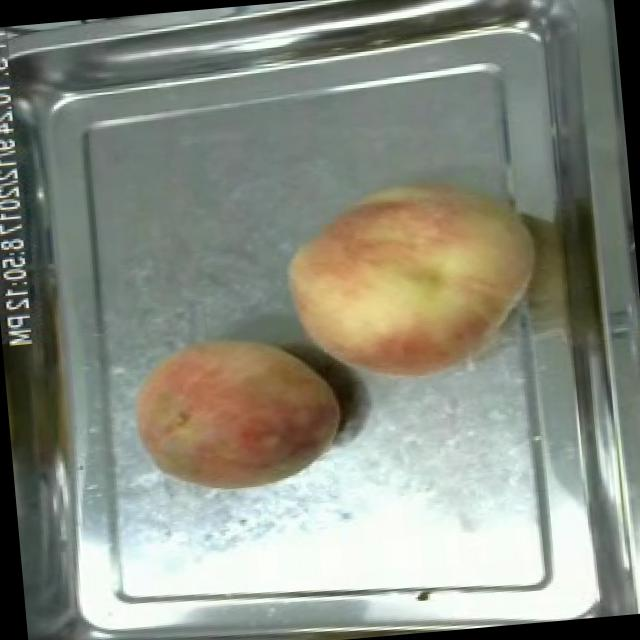Fruit: (266, 163, 549, 397), (115, 318, 352, 508)
